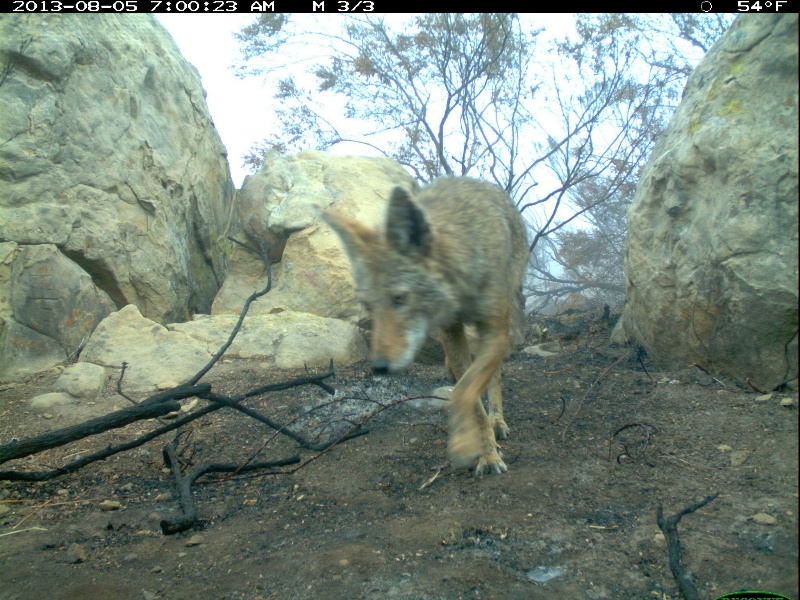coyote: (316, 174, 534, 481)
